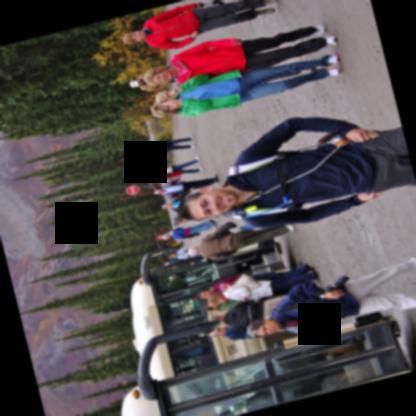backpack: (225, 150, 304, 219)
handbag: (226, 272, 260, 298), (325, 275, 351, 291)
